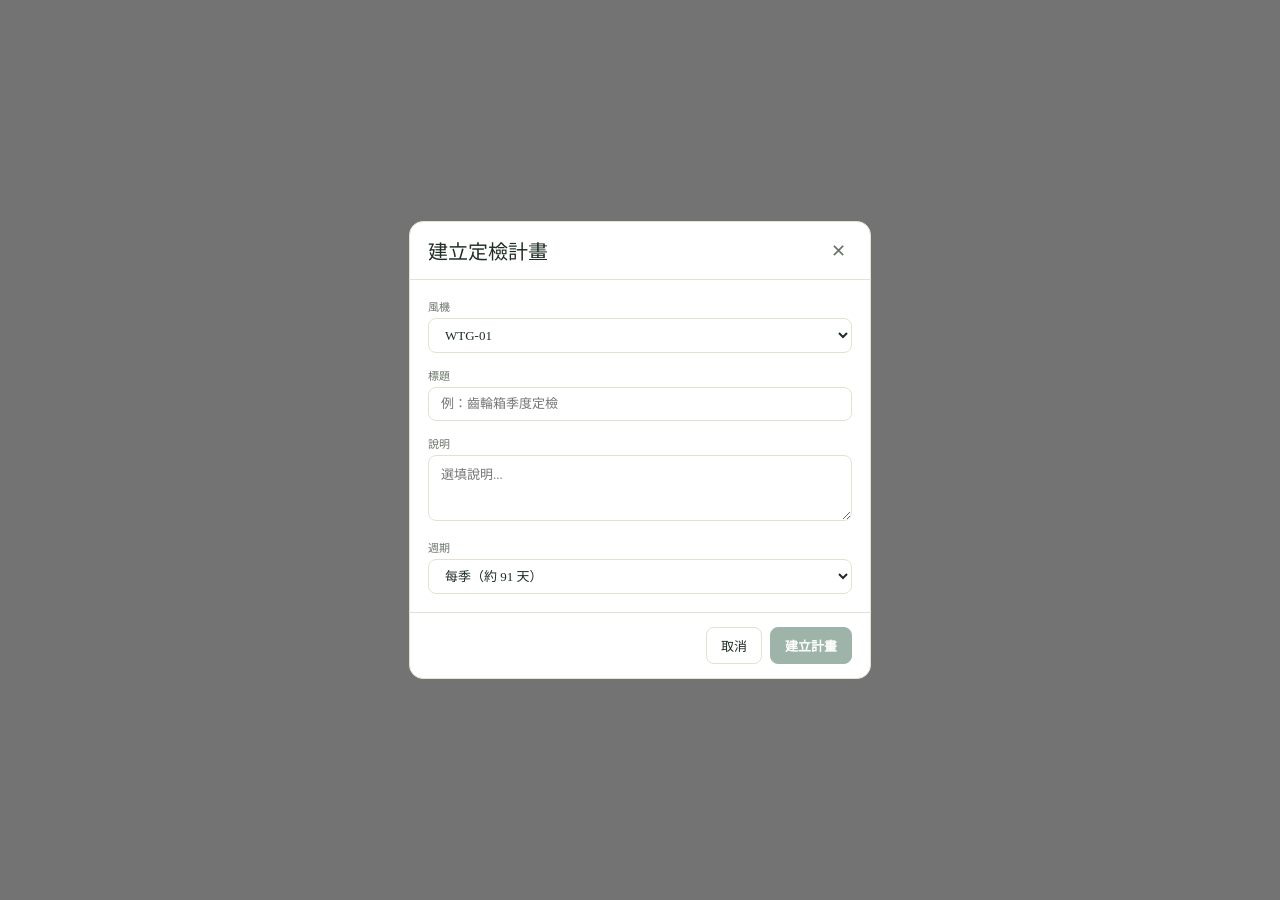
it: CreateInspectionScheduleModal 建立定檢計畫 › recurrence=custom_days 但 interval_days 清空 → 按鈕 disabled（守 custom_days 必填驗證）
The width and height of the screenshot is (1280, 900).
Type "自訂週期計畫" into the field labelled "標題" at (640, 404), box [428,387,852,421]
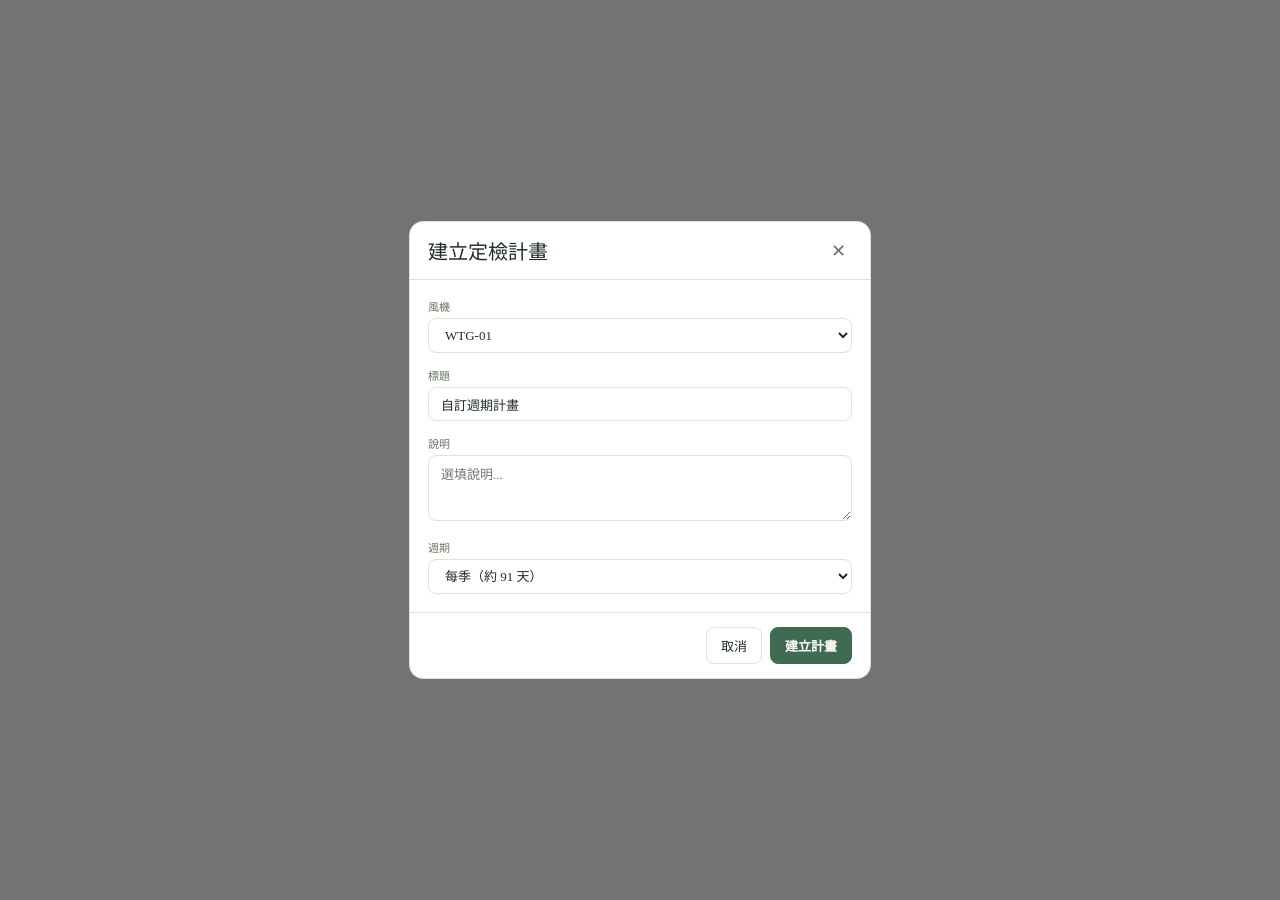
Select "自訂天數" in the dropdown labelled "週期" at (640, 576), box [428,559,852,594]
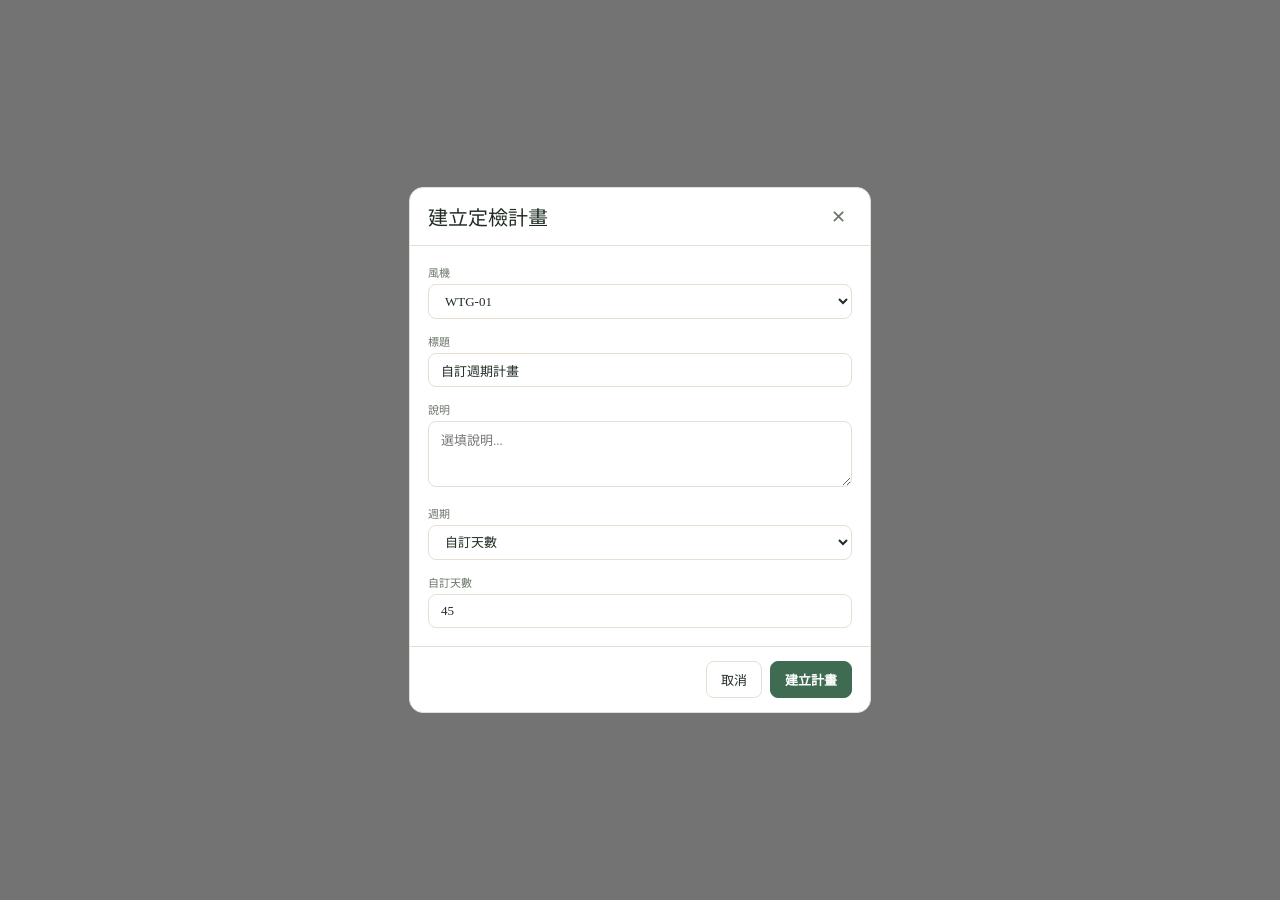
Clear the number field labelled "自訂天數" at (640, 611), box [428,594,852,628]
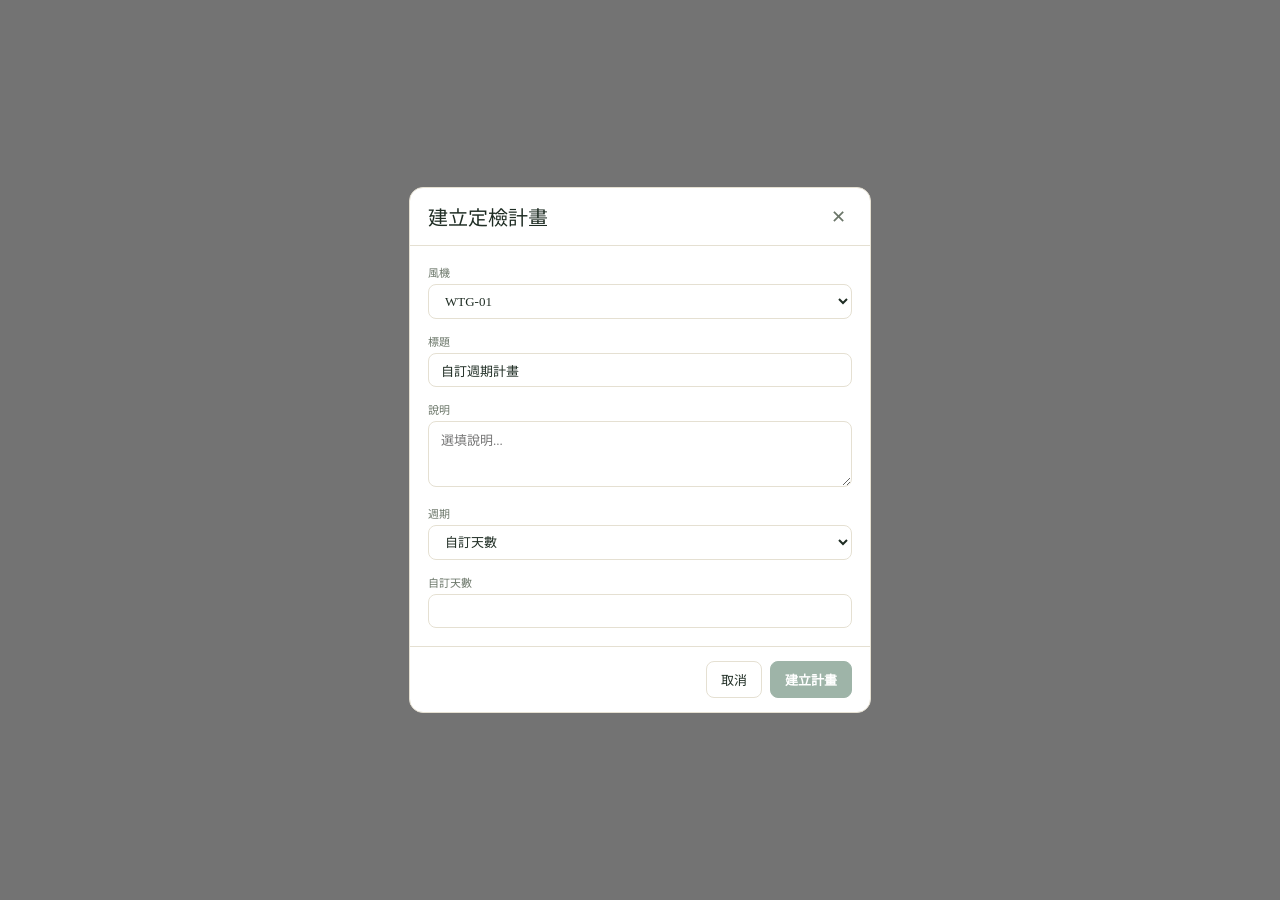
Now the button "建立計畫" is disabled, box [770,661,852,698]
